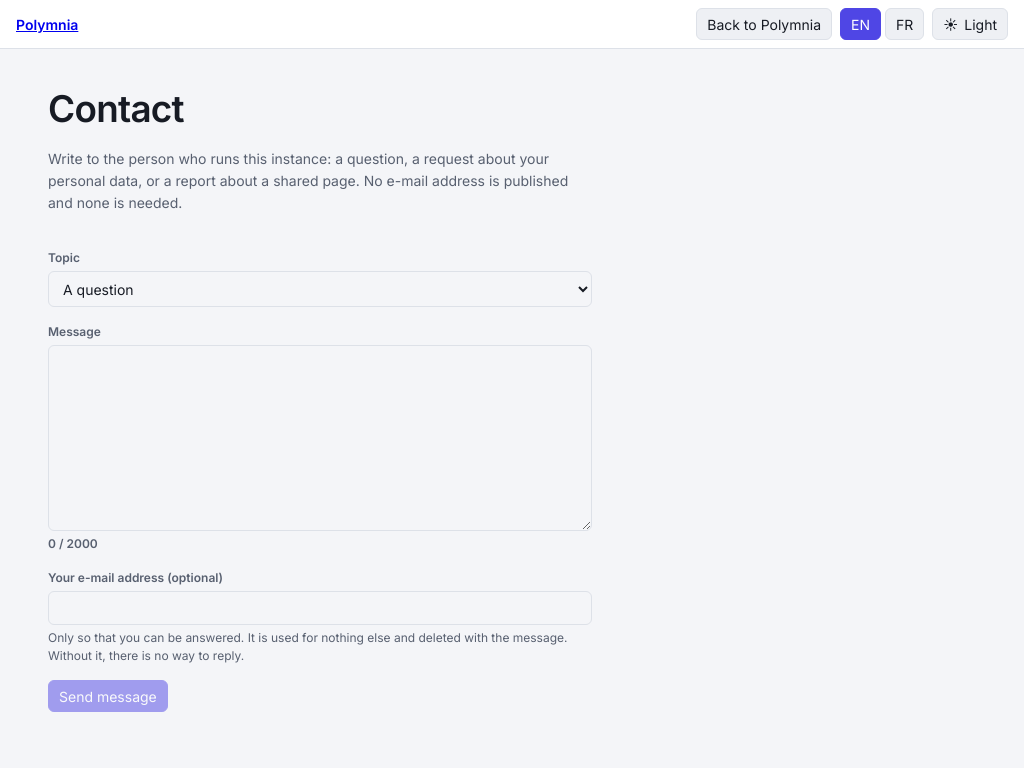
Test: contact page › sends no reply address when none is given
Type "A question" into the text box labelled "Message" at (320, 438), box left=48, top=345, right=592, bottom=531
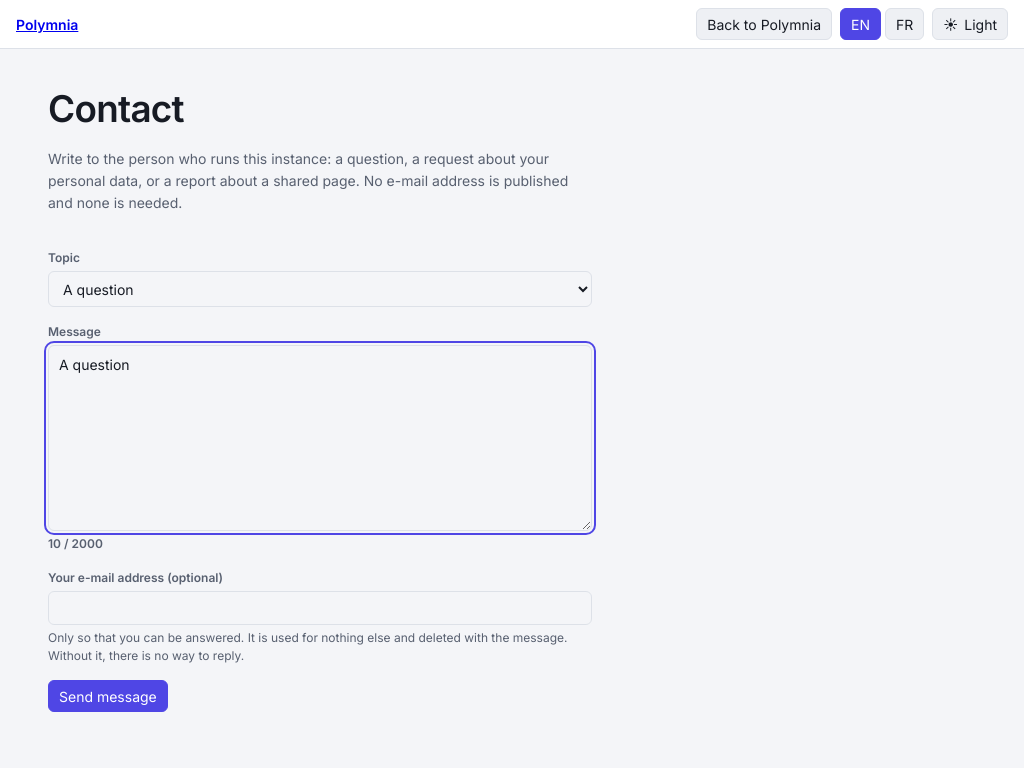
Click the button "Send message" at (108, 696), box left=48, top=680, right=168, bottom=712
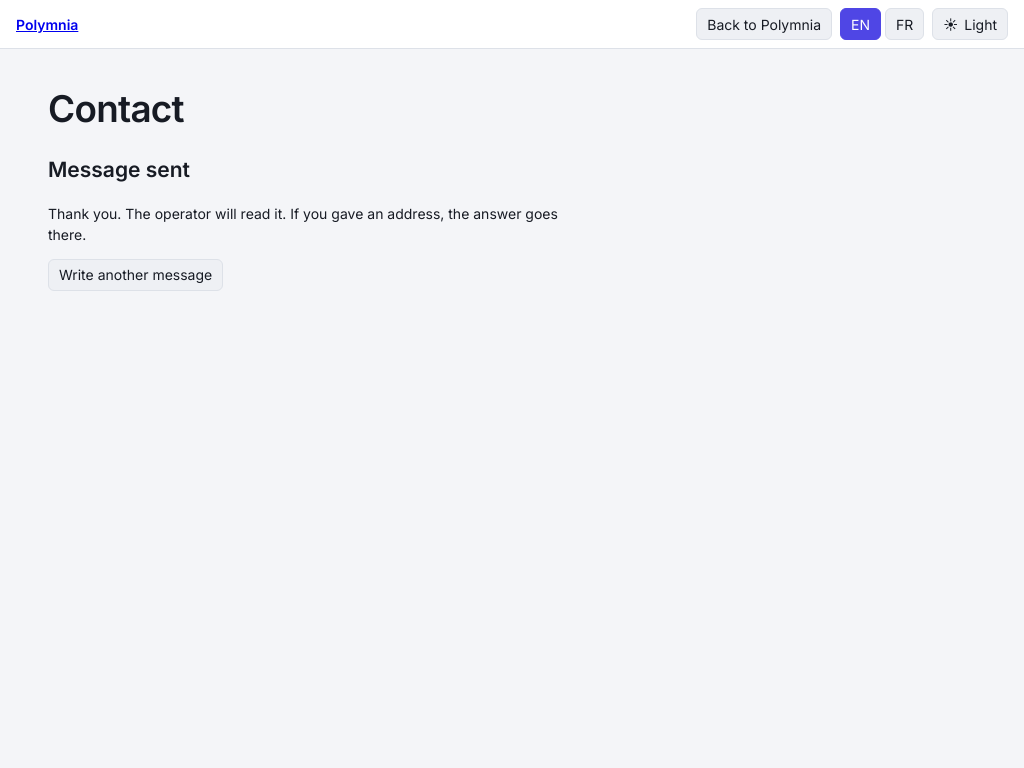
Result: the heading "Message sent" is shown at left=48, top=157, right=190, bottom=182
